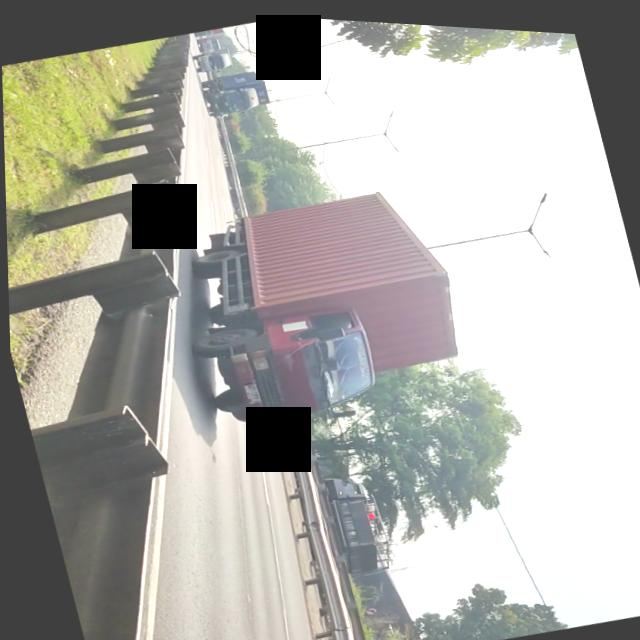Golongan II: (154, 164, 480, 450)
